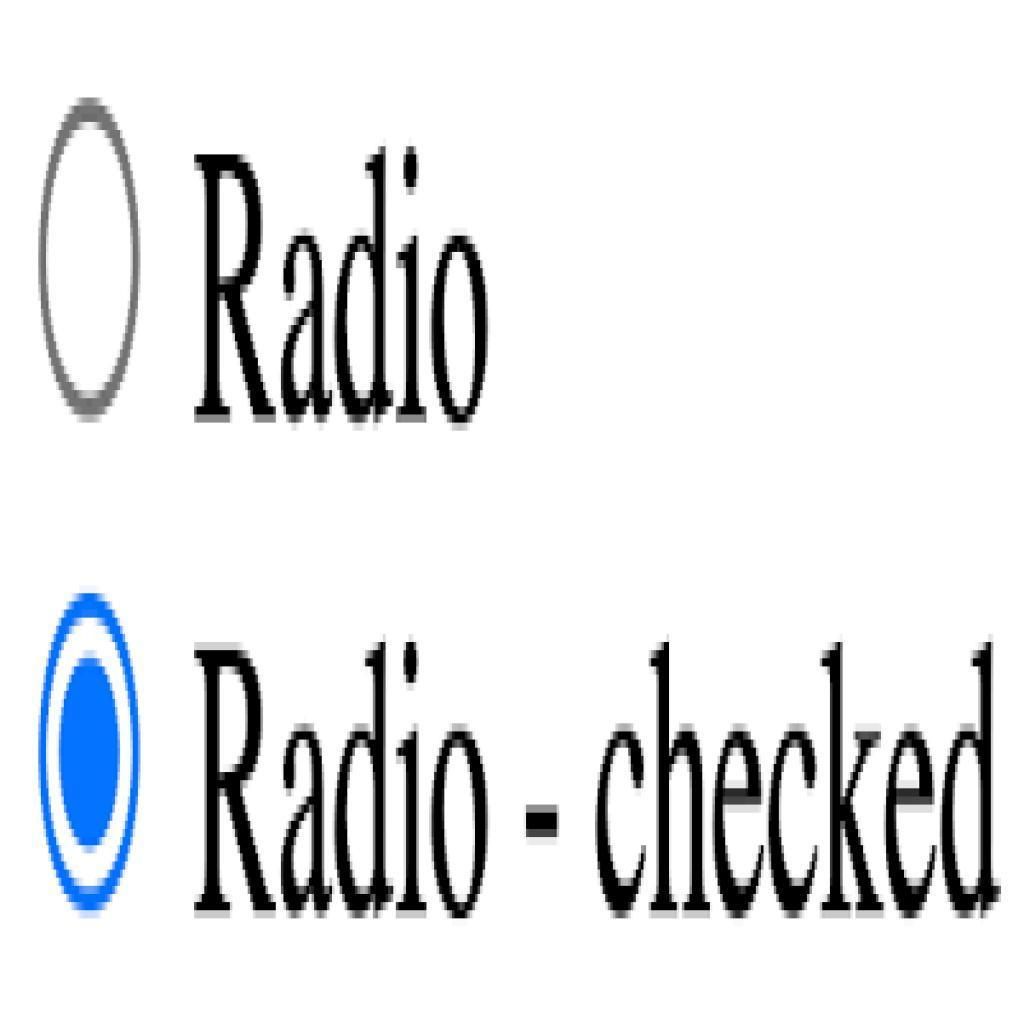radio: (35, 598, 144, 915), (39, 98, 141, 424)
